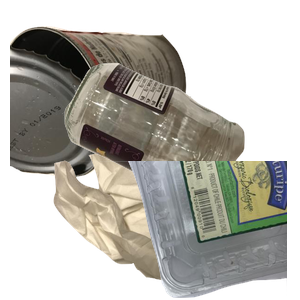glass: (62, 60, 300, 240)
metal: (10, 23, 193, 194)
plastic: (60, 161, 300, 300)
trash: (51, 142, 278, 300)
